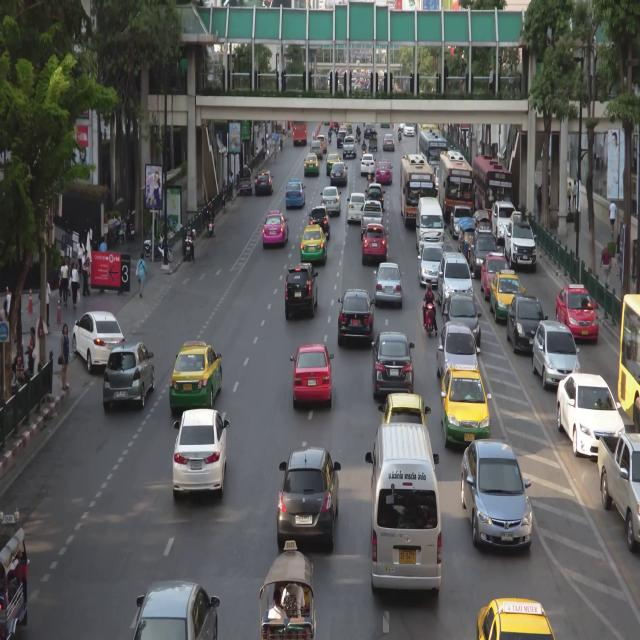bus: (619, 289, 640, 430), (438, 150, 474, 227), (472, 158, 512, 226), (400, 156, 435, 225), (419, 132, 447, 195), (419, 122, 438, 170), (291, 121, 307, 146)
car: (371, 429, 442, 602), (462, 443, 533, 554), (281, 451, 338, 554), (558, 372, 624, 460), (256, 554, 316, 640), (598, 432, 640, 551), (136, 581, 220, 640), (174, 412, 224, 497), (533, 321, 580, 390), (72, 309, 123, 372), (105, 343, 155, 406), (0, 532, 29, 640), (374, 331, 413, 398), (438, 250, 474, 318), (294, 345, 332, 409), (440, 328, 480, 386), (443, 296, 483, 353), (384, 395, 427, 448), (340, 288, 373, 347), (511, 294, 544, 351), (418, 196, 444, 256), (287, 267, 318, 317), (507, 216, 535, 271), (375, 260, 402, 305), (472, 230, 497, 274), (420, 246, 443, 287), (494, 203, 517, 243), (364, 223, 387, 261), (362, 199, 383, 239), (451, 205, 473, 238), (458, 218, 475, 260), (309, 207, 331, 238), (322, 186, 341, 215), (254, 170, 274, 196), (348, 191, 364, 223), (367, 183, 384, 212), (474, 209, 490, 238), (238, 167, 253, 195), (331, 163, 347, 184), (360, 154, 375, 176), (344, 135, 356, 158), (383, 132, 395, 152), (338, 127, 349, 147), (310, 141, 322, 159), (316, 133, 327, 152), (370, 130, 379, 151), (363, 122, 373, 139), (404, 123, 415, 136)
pedestrian: (60, 326, 69, 394), (60, 259, 69, 307), (137, 253, 146, 299), (80, 250, 89, 295), (27, 327, 36, 371), (602, 243, 611, 287), (70, 263, 78, 307), (610, 199, 616, 238), (0, 298, 8, 326), (616, 233, 621, 277), (78, 238, 84, 274), (46, 279, 50, 327), (572, 178, 578, 210), (229, 169, 234, 200), (101, 235, 108, 253), (266, 133, 271, 155), (273, 142, 278, 164), (93, 236, 99, 253), (262, 140, 266, 162), (568, 180, 571, 209), (280, 133, 283, 153), (224, 179, 227, 190), (256, 148, 259, 152)
taxi: (442, 367, 491, 447), (477, 594, 556, 640), (173, 342, 222, 409), (558, 284, 599, 341), (491, 271, 522, 325), (482, 254, 510, 298), (301, 225, 326, 266), (262, 210, 289, 247), (286, 179, 305, 207), (377, 158, 394, 185), (305, 154, 319, 176), (327, 152, 340, 175), (343, 122, 353, 132)
